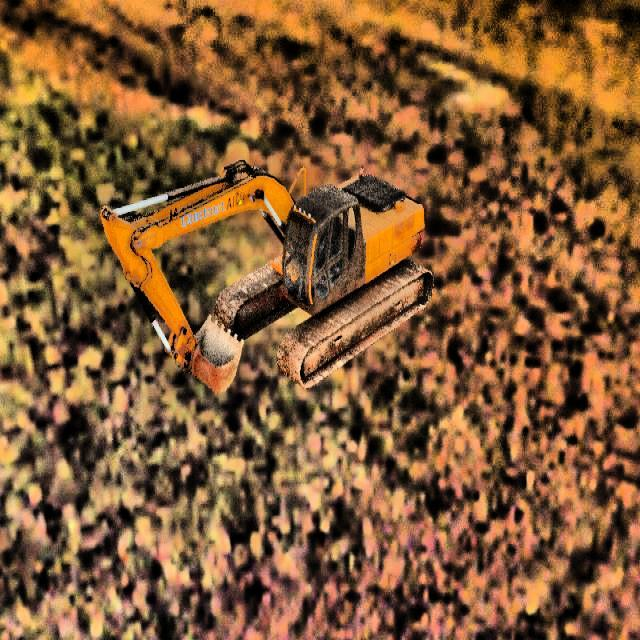excavator: (100, 160, 434, 394)
